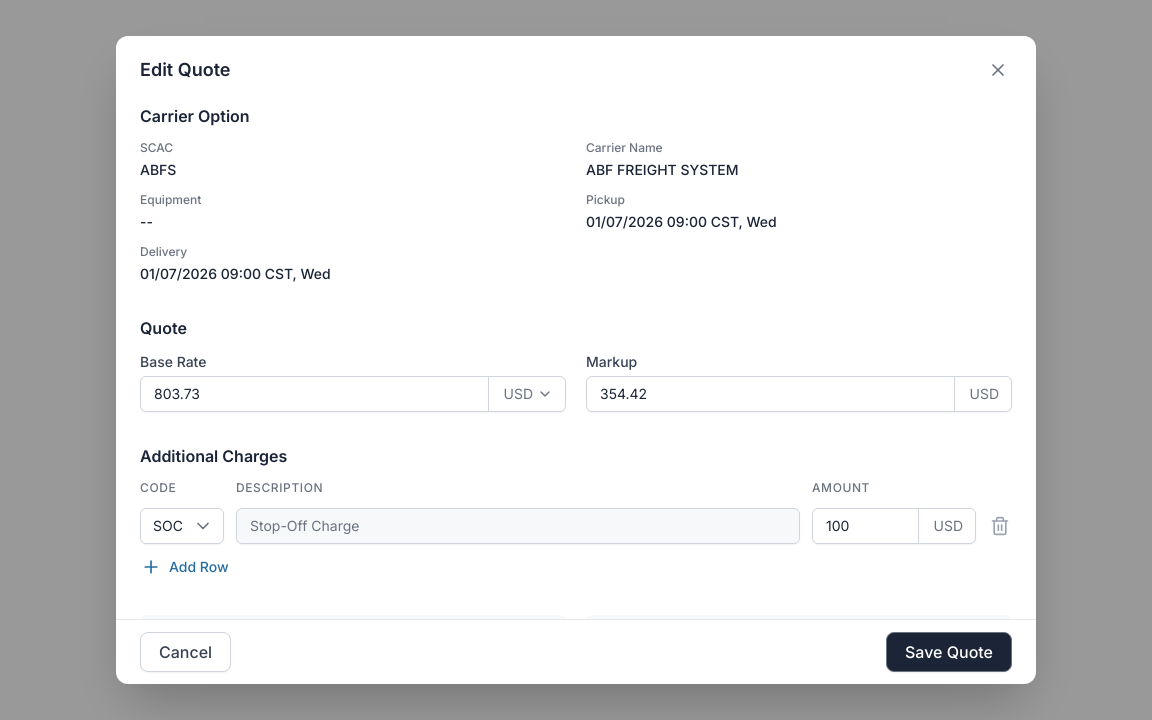
QuoteModal — 6-decimal precision (LINX-13895) › the AP/AR summary cards still read 2dp — a 6-decimal input is not what a summary should show
Replace the text in the field showing "803.73" below "Base Rate" with "100.123456": (315, 394) [154,384,476,404]
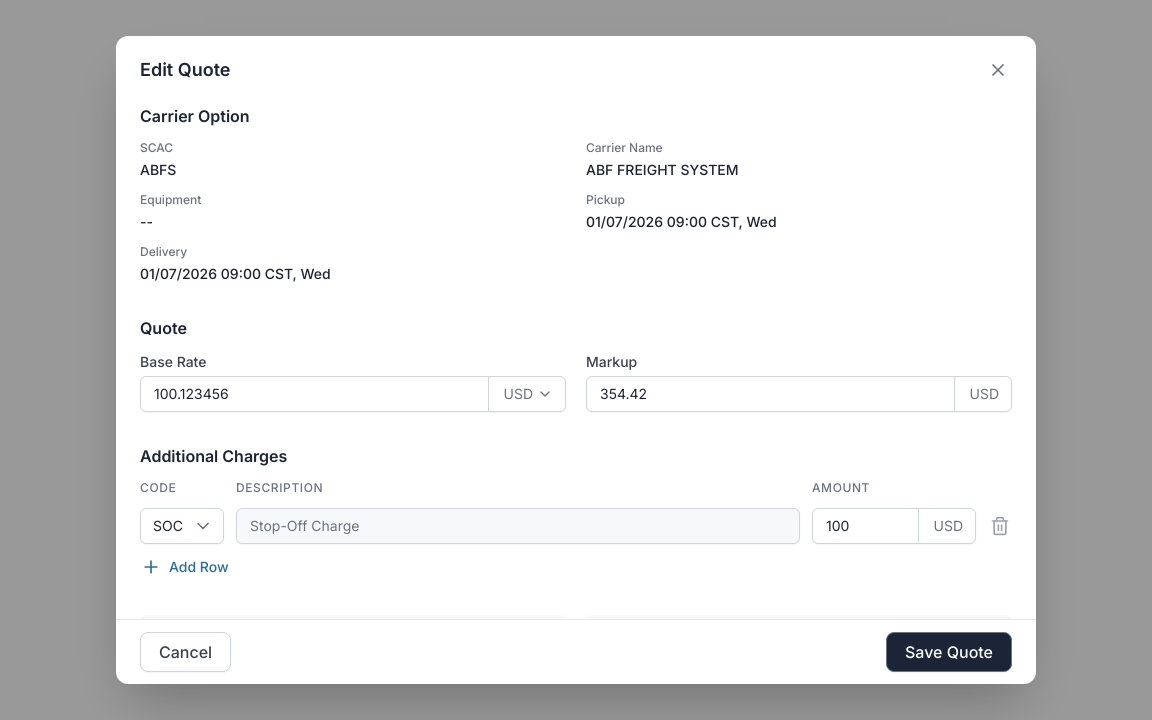
Leave the field showing "803.73" below "Base Rate", box [154,384,476,404]
(page scrolled)
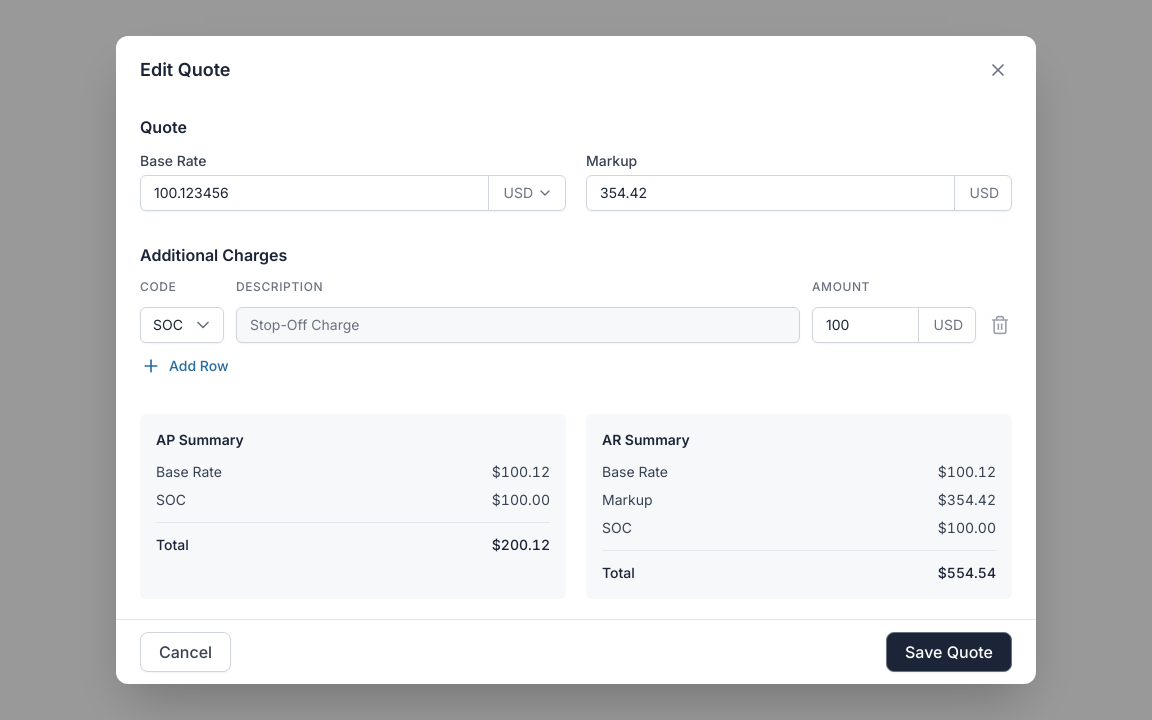
Now the text "$200.12" is shown, box [492,535,550,555]
